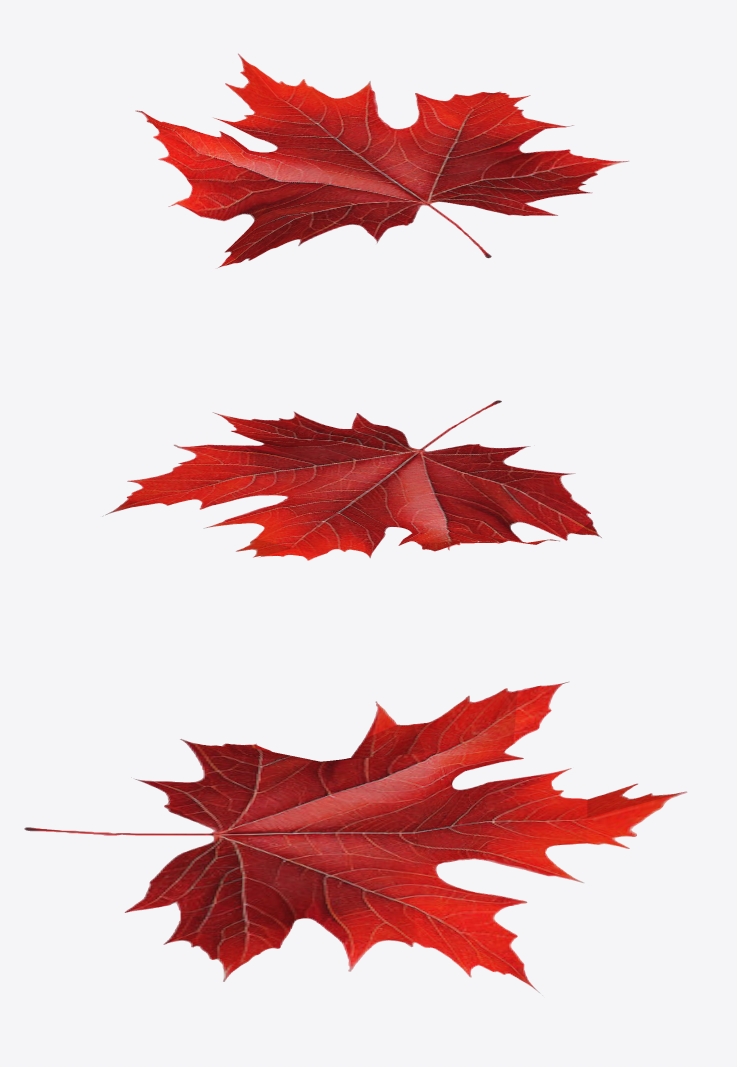
File: mapleLeaf3.obj
3 views of the same model, one above another, from view 1: azimuth 30°, elevation 25°; view 2: azimuth 150°, elevation 25°; view 3: azimuth 270°, elevation 25° (orthographic). The views are drawn at different scales.
Parts seen in each view (by area): view 1: Plane.002; view 2: Plane.002; view 3: Plane.002.
Part boxes in pixels (box(x1,y1,x2,y2)): Plane.002: box(135, 53, 629, 268); Plane.002: box(102, 400, 601, 560); Plane.002: box(24, 681, 687, 997).
Bounding box in the file's own units: 0.0729 × 0.0129 × 0.0712.
